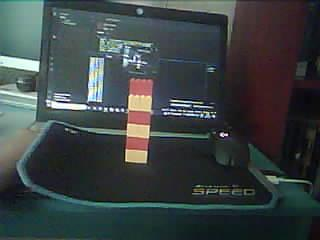lego: (124, 78, 154, 164)
